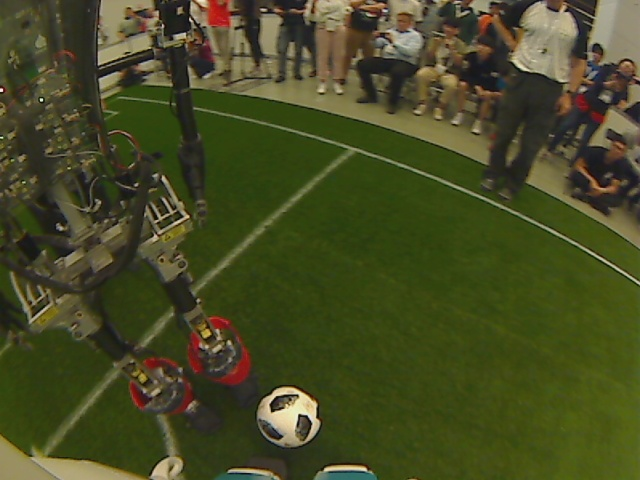ball: (254, 384, 322, 451)
